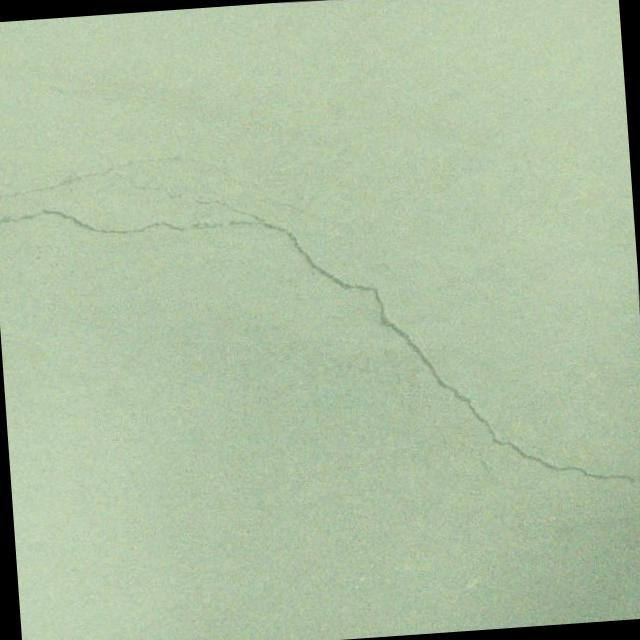crack: (0, 122, 640, 529), (120, 142, 357, 248), (505, 483, 640, 532), (441, 428, 499, 482), (425, 392, 442, 429)
